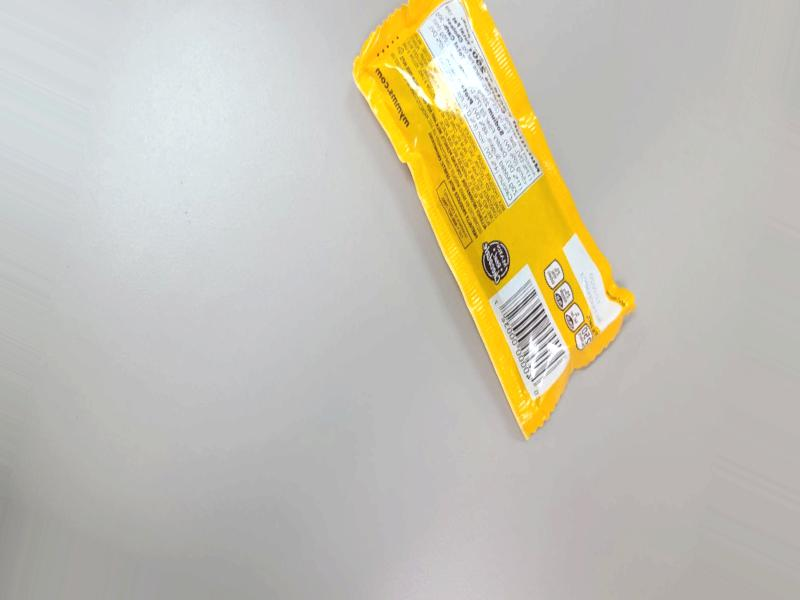m&m: (347, 0, 628, 433)
